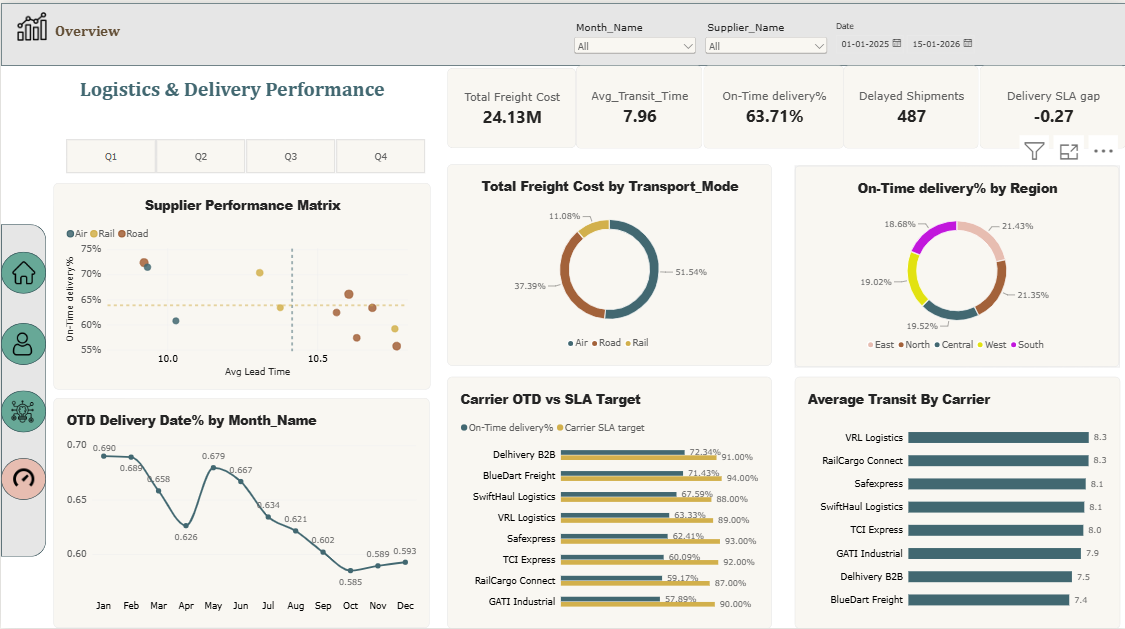

The page's visual inventory and layout, read from the dashboard file:
{"tool":"powerbi","page":{"name":"Logistics Performance","canvas":[1800,1000],"ordinal":3},"visuals":[{"type":"shape","box":[0,0,1799.6,100.5],"z":0},{"type":"shape","box":[0,353.6,72,532],"z":1000},{"type":"textbox","box":[85.5,30.2,135.7,53.6],"z":2000},{"type":"image","box":[25.1,0,46.9,75.4],"z":3000},{"type":"textbox","box":[125.9,118.8,550.6,76.5],"z":4000},{"type":"shape","box":[0,398.8,72.1,67],"z":5000},{"type":"shape","box":[0,512.7,72.1,67],"z":6000},{"type":"shape","box":[0,620,72.1,67],"z":7000},{"type":"shape","box":[0,727.2,72.1,67],"z":8000},{"type":"image","box":[18.4,398.8,36.9,67],"z":9000},{"type":"image","box":[18.4,727.2,36.9,67],"z":10000},{"type":"image","box":[16.8,512.7,36.9,67],"z":11000},{"type":"image","box":[16.8,620,36.9,67],"z":12000},{"type":"cardVisual","fields":{"Data":["3rd page measures.Avg_Transit_Time"]},"box":[920.8,100,202.8,133.9],"z":13000},{"type":"cardVisual","fields":{"Data":["3rd page measures.Total Freight Cost"]},"box":[713.5,103.4,206.9,128.7],"z":13000,"group":"g2"},{"type":"cardVisual","fields":{"Data":["1st page measures.On-Time delivery%"]},"box":[1123.6,100,225,133.9],"z":14000},{"type":"cardVisual","fields":{"Data":["1st page measures.Delayed Shipments"]},"box":[1348.6,100,216.7,133.9],"z":15000},{"type":"cardVisual","fields":{"Data":["3rd page measures.Delivery SLA gap"]},"box":[1565.3,100,234.7,133.9],"z":16000},{"type":"slicer","fields":{"Values":["Dim_date.Month_Name"]},"box":[912.6,28.7,205.3,71.1],"z":17000},{"type":"group","id":"g1","title":"Group 1","box":[713.5,103.4,206.9,128.7],"z":18000},{"type":"slicer","fields":{"Values":["Dim_Supplier.Supplier_Name"]},"box":[1121.8,28.7,205.3,71.1],"z":19000},{"type":"slicer","fields":{"Values":["Dim_date.Date"]},"box":[1327.6,29.9,234.5,71.3],"z":20000},{"type":"slicer","fields":{"Values":["Dim_date.Quarter"]},"box":[84.7,216.9,613.6,57.6],"z":21000},{"type":"scatterChart","title":"Supplier Performance Matrix","fields":{"Category":["Dim_carrier.Carrier_Name"],"Series":["Fact_Procurement.Transport_Mode"],"Size":["1st page measures.Actual Spend"],"X":["1st page measures.Avg Lead Time"],"Y":["1st page measures.On-Time delivery%"]},"box":[84.7,288.1,603.4,330.5],"z":22000},{"type":"clusteredBarChart","title":"Carrier OTD vs SLA Target","fields":{"Category":["Dim_carrier.Carrier_Name"],"Y":["1st page measures.On-Time delivery%","3rd page measures.Carrier SLA target"]},"box":[713.2,597.1,519.1,402.9],"z":23000},{"type":"donutChart","fields":{"Category":["Fact_Procurement.Transport_Mode"],"Y":["3rd page measures.Total Freight Cost"]},"box":[713.2,258.8,519.1,322.1],"z":24000},{"type":"clusteredBarChart","title":"Average Transit By Carrier","fields":{"Category":["Dim_carrier.Carrier_Name"],"Y":["3rd page measures.Avg_Transit_Time"]},"box":[1269.1,597.1,520.6,402.9],"z":25000},{"type":"donutChart","fields":{"Category":["Dim_Warehouse.Region"],"Y":["1st page measures.On-Time delivery%"]},"box":[1270.6,260.3,519.1,322.1],"z":26000},{"type":"lineChart","fields":{"Category":["Dim_date.Month_Name"],"Y":["3rd page measures.OTD Delivery Date%"]},"box":[84.7,632.2,601.7,367.8],"z":27000},{"type":"group","id":"g2","title":"Group 2","box":[713.5,103.4,206.9,128.7],"z":28001,"group":"g1"}]}

Visuals, with their boxes on the page's 1800x1000 design canvas (x1, y1, x2, y2). These are canvas units, not pixel positions in the 1125x629 screenshot, which may show the page scaled, cropped or inside an application window:
shape: <bbox>0, 0, 1800, 100</bbox>
shape: <bbox>0, 354, 72, 886</bbox>
textbox: <bbox>86, 30, 221, 84</bbox>
image: <bbox>25, 0, 72, 75</bbox>
textbox: <bbox>126, 119, 676, 195</bbox>
shape: <bbox>0, 399, 72, 466</bbox>
shape: <bbox>0, 513, 72, 580</bbox>
shape: <bbox>0, 620, 72, 687</bbox>
shape: <bbox>0, 727, 72, 794</bbox>
image: <bbox>18, 399, 55, 466</bbox>
image: <bbox>18, 727, 55, 794</bbox>
image: <bbox>17, 513, 54, 580</bbox>
image: <bbox>17, 620, 54, 687</bbox>
cardVisual - 3rd page measures.Avg_Transit_Time: <bbox>921, 100, 1124, 234</bbox>
cardVisual - 3rd page measures.Total Freight Cost: <bbox>714, 103, 920, 232</bbox>
cardVisual - 1st page measures.On-Time delivery%: <bbox>1124, 100, 1349, 234</bbox>
cardVisual - 1st page measures.Delayed Shipments: <bbox>1349, 100, 1565, 234</bbox>
cardVisual - 3rd page measures.Delivery SLA gap: <bbox>1565, 100, 1800, 234</bbox>
slicer - Dim_date.Month_Name: <bbox>913, 29, 1118, 100</bbox>
"Group 1" group: <bbox>714, 103, 920, 232</bbox>
slicer - Dim_Supplier.Supplier_Name: <bbox>1122, 29, 1327, 100</bbox>
slicer - Dim_date.Date: <bbox>1328, 30, 1562, 101</bbox>
slicer - Dim_date.Quarter: <bbox>85, 217, 698, 274</bbox>
"Supplier Performance Matrix" scatterChart: <bbox>85, 288, 688, 619</bbox>
"Carrier OTD vs SLA Target" clusteredBarChart: <bbox>713, 597, 1232, 1000</bbox>
donutChart - Fact_Procurement.Transport_Mode x 3rd page measures.Total Freight Cost: <bbox>713, 259, 1232, 581</bbox>
"Average Transit By Carrier" clusteredBarChart: <bbox>1269, 597, 1790, 1000</bbox>
donutChart - Dim_Warehouse.Region x 1st page measures.On-Time delivery%: <bbox>1271, 260, 1790, 582</bbox>
lineChart - Dim_date.Month_Name x 3rd page measures.OTD Delivery Date%: <bbox>85, 632, 686, 1000</bbox>
"Group 2" group: <bbox>714, 103, 920, 232</bbox>
